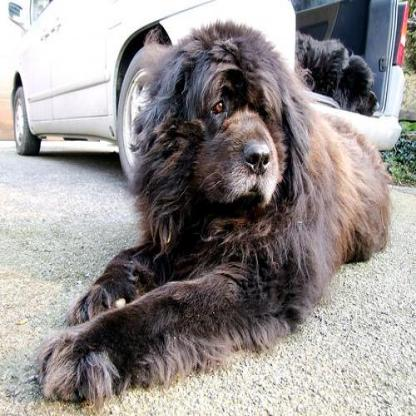Newfoundland: (34, 20, 390, 403)
